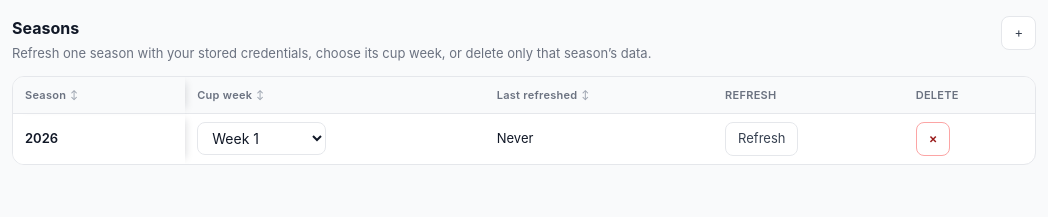
SeasonsSection › saves a cup-week change immediately and signals the standings to reload
Select "Week 2" in the dropdown named "Cup week for 2026" at point(262, 139), box [197,122,326,155]
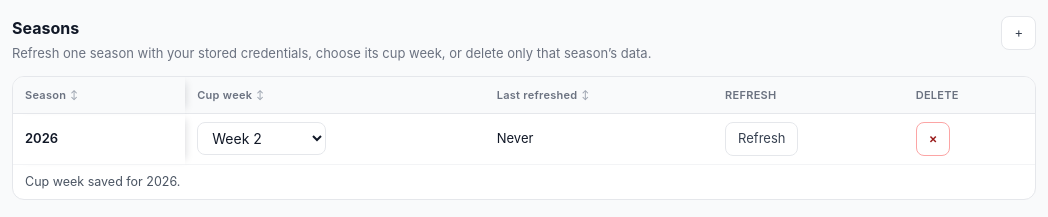
Check: the text "Cup week saved for 2026." is shown, box [25,174,180,188]
